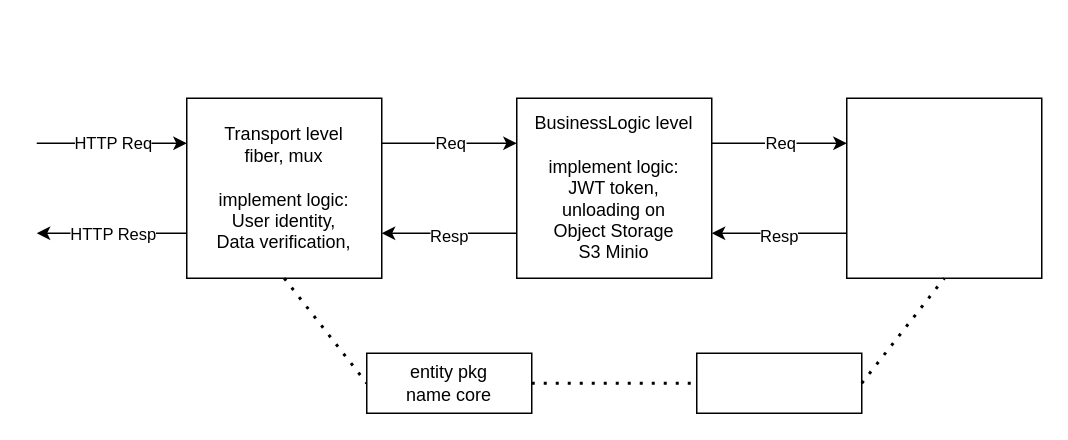
Image size: 1068x440. Some labels were removed from this diagram. Here are the shapes that lost their labels. From the top down, the centre of each, then its label:
At point (943, 187): "Repository level implement logic: Database - MongoDB, Maybe caching with Redis,".
At point (778, 382): "accessible logic name pkg".
